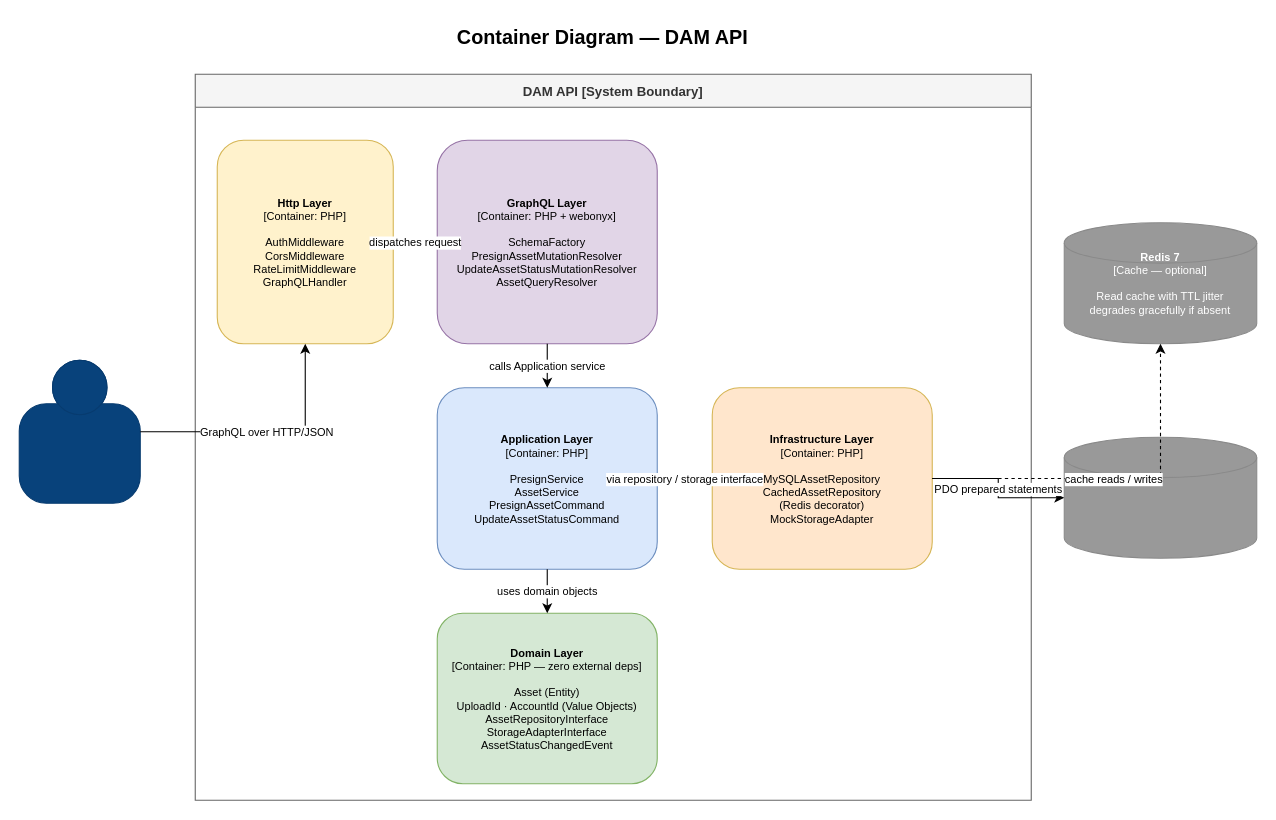
This 1276x820 diagram has some shape labels left out. The shapes that lost their labels are listed below. From the top down, each one's centre as x and y in pixels, then its label:
At pixel 79 431: "API Client [Person] Web or mobile application".
At pixel 1160 497: "MySQL 8 [Database] Asset metadata and status records".
